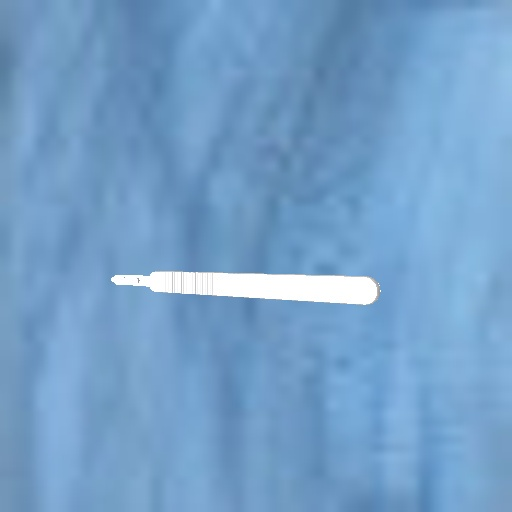bisturi: (105, 260, 389, 313)
